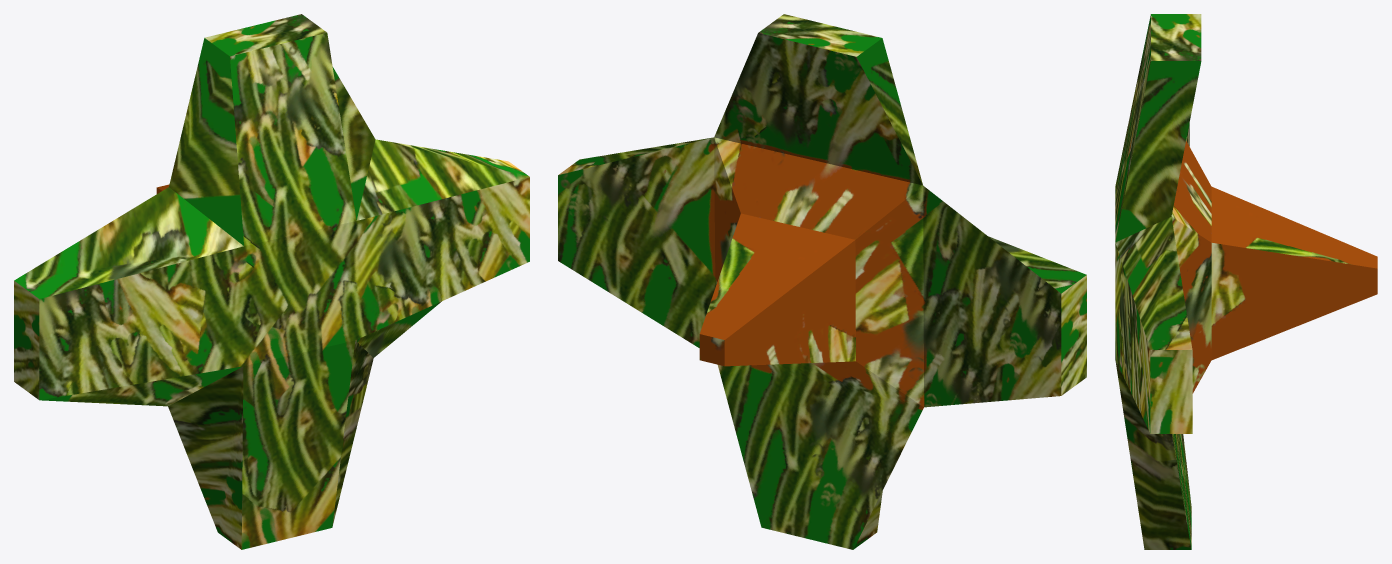
File: tree-sampling-pine-6-1.glb
The picture shows the model from 3 angles, left to right: view 1: azimuth 30°, elevation 25°; view 2: azimuth 150°, elevation 25°; view 3: azimuth 270°, elevation 25°; orthographic projection. The views are drawn at different scales.
Parts seen in each view (by area): view 1: Cube; view 2: Cube; view 3: Cube.
Boxes of the visible parts, x1,y1,x2,y2 form: Cube: (14, 14, 529, 549); Cube: (558, 14, 1086, 549); Cube: (1115, 14, 1377, 549).
Bounding box in the file's own units: 1.24 × 1.18 × 0.5726.
1 material, 1 textured.
